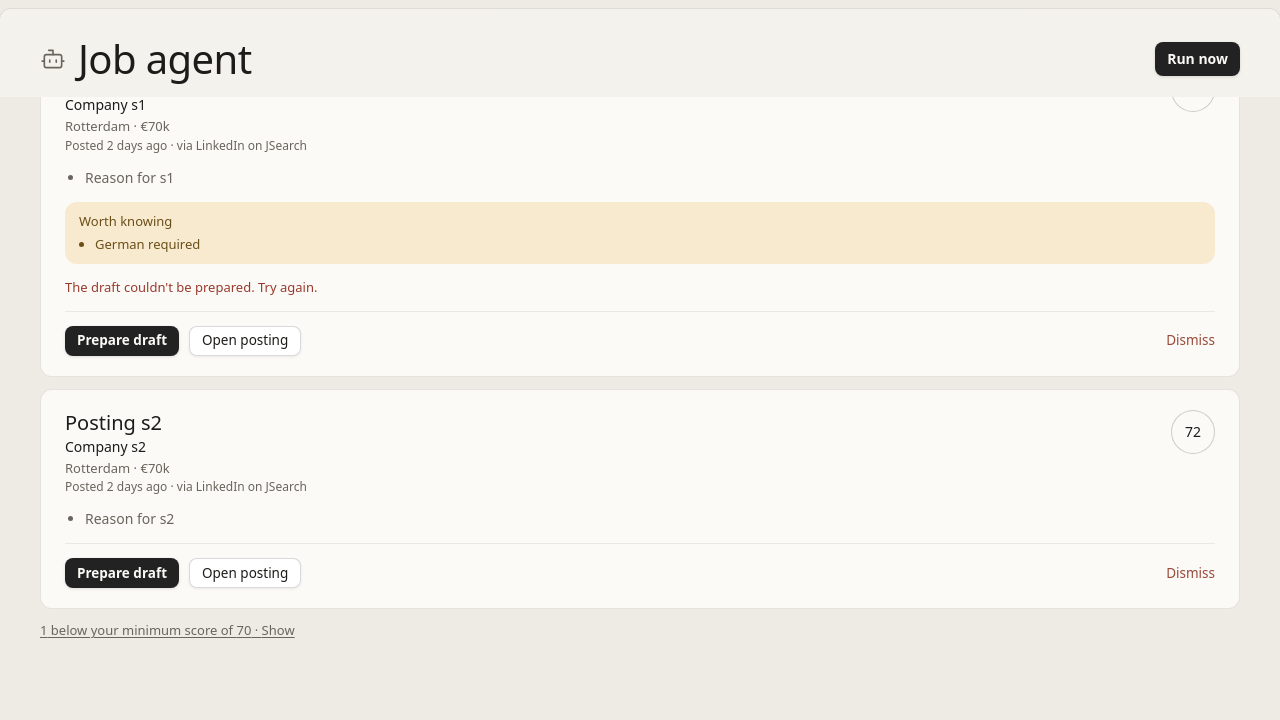
Test: AgentScreen (E16-6) › keeps postings below the minimum score behind Show
(page scrolled)
Expected: the text "Posting b1" is not shown
Click the button "1 below your minimum score of 70 · Show" at (167, 631), box 40,621 -> 295,640
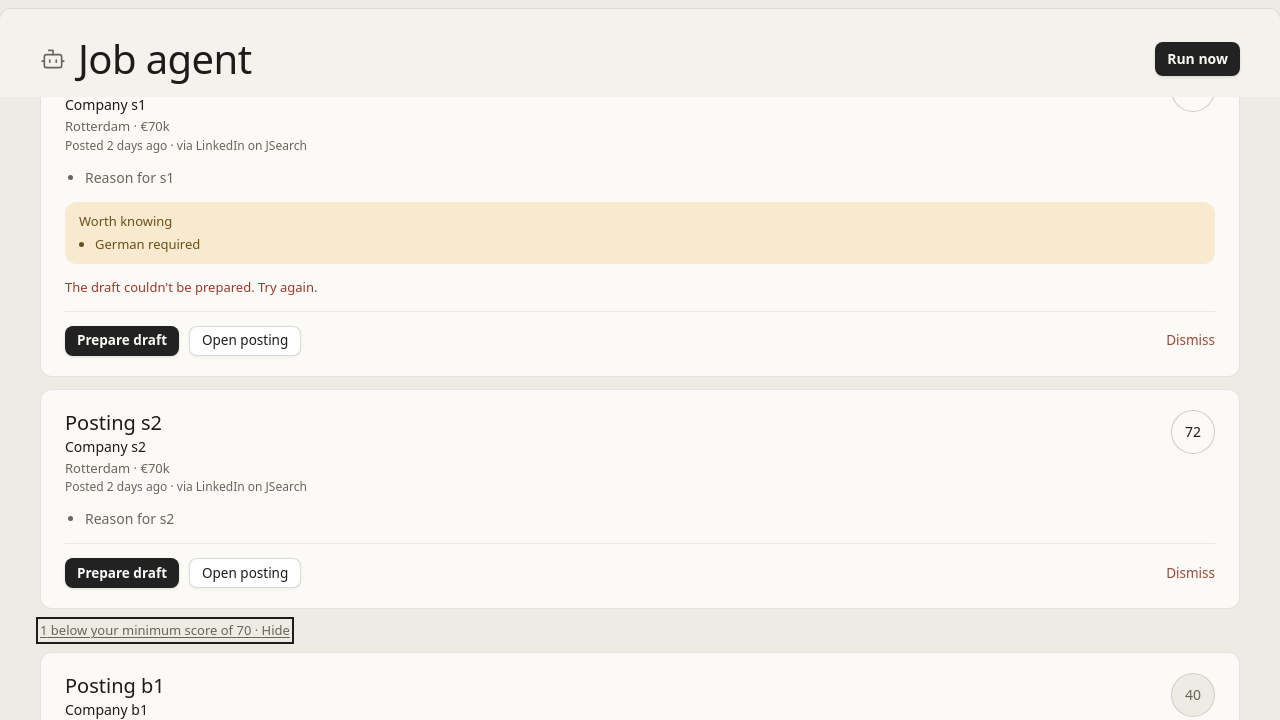
Now the button named "1 below your minimum score of 70 · Show" is expanded, box 40,621 -> 290,640
Now the heading "Posting b1" is shown, box 65,672 -> 165,699
